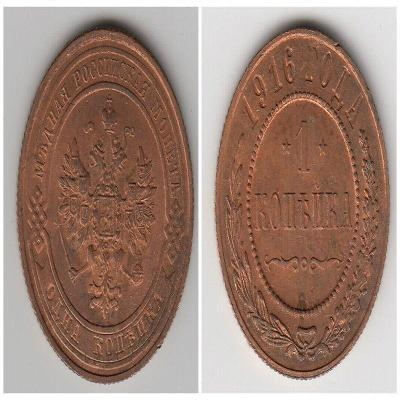numismatics: (17, 30, 193, 381), (216, 30, 390, 378)
